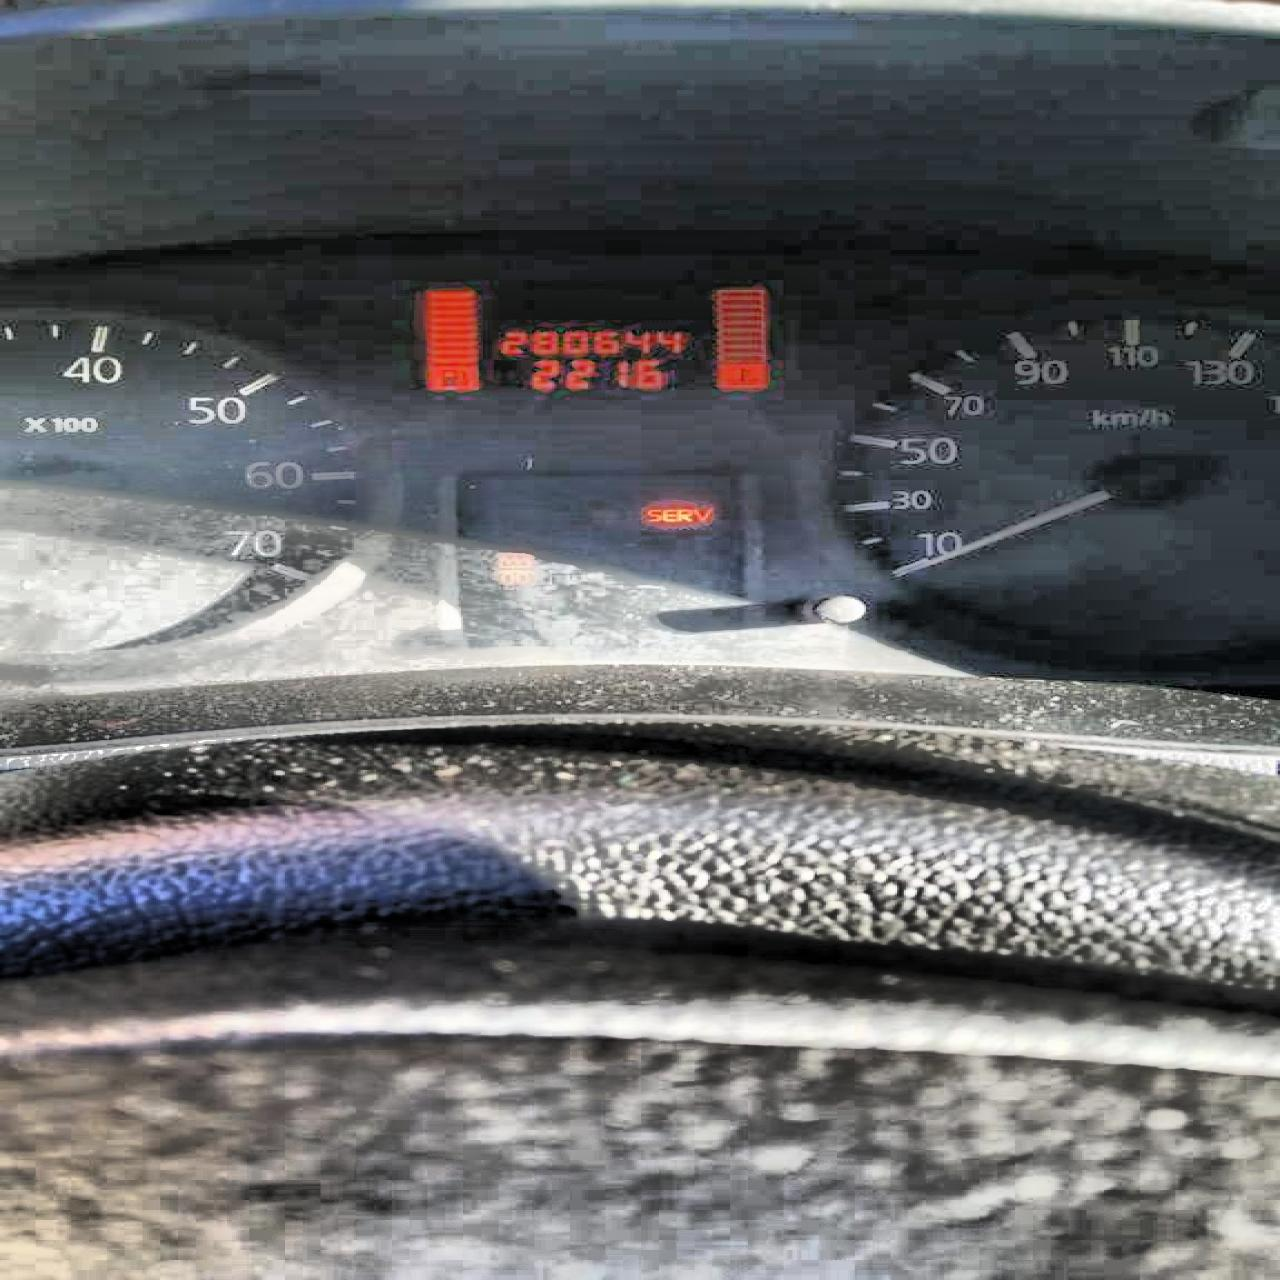0: (559, 328, 590, 353)
1: (612, 359, 629, 387)
2: (527, 358, 558, 388), (563, 358, 592, 388), (497, 331, 525, 354)
4: (621, 328, 652, 353), (655, 328, 681, 353)
6: (633, 359, 663, 388), (592, 329, 619, 353)
8: (527, 329, 557, 353)
odometer: (387, 272, 788, 393)
